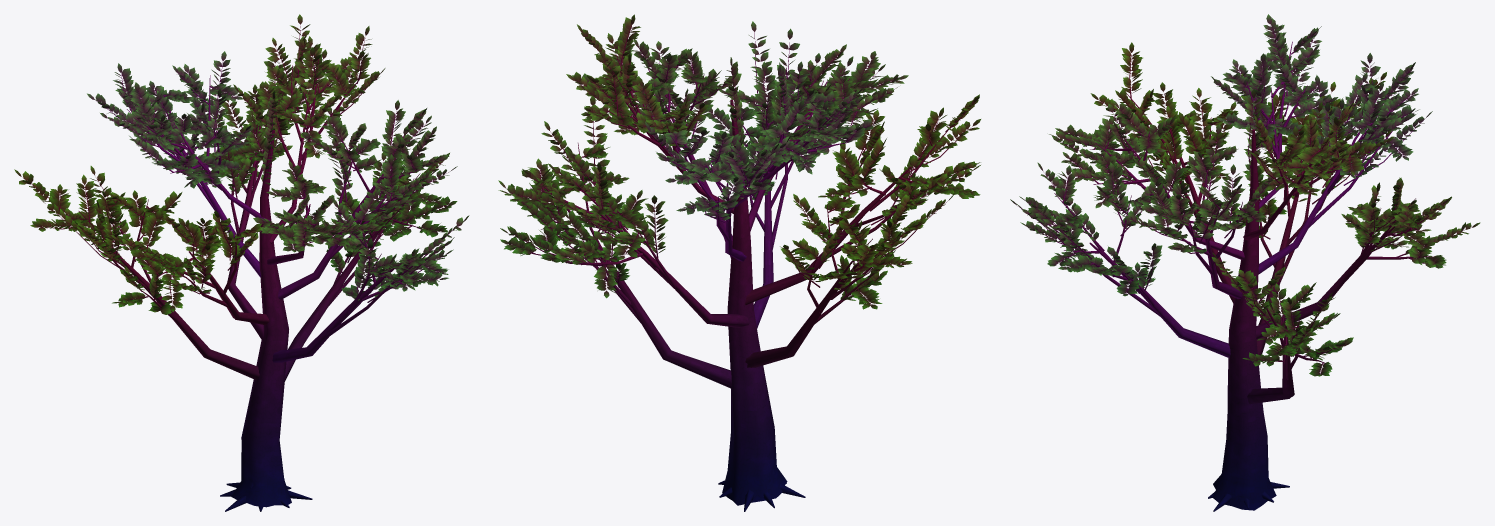
The model's file is field_elm_lod0.glb.
3 views of the same model, side by side, from view 1: azimuth 30°, elevation 25°; view 2: azimuth 150°, elevation 25°; view 3: azimuth 270°, elevation 25° (orthographic). The views are drawn at different scales.
Visible parts, largest first — view 1: field_elm_lod0; view 2: field_elm_lod0; view 3: field_elm_lod0.
Part boxes in pixels (box(x1,y1,x2,y2)): field_elm_lod0: box(14, 14, 469, 511); field_elm_lod0: box(498, 14, 980, 511); field_elm_lod0: box(1010, 14, 1480, 511).
Bounding box in the file's own units: 8.39 × 8.58 × 8.3.
Materials: 2 (2 with a texture image).
